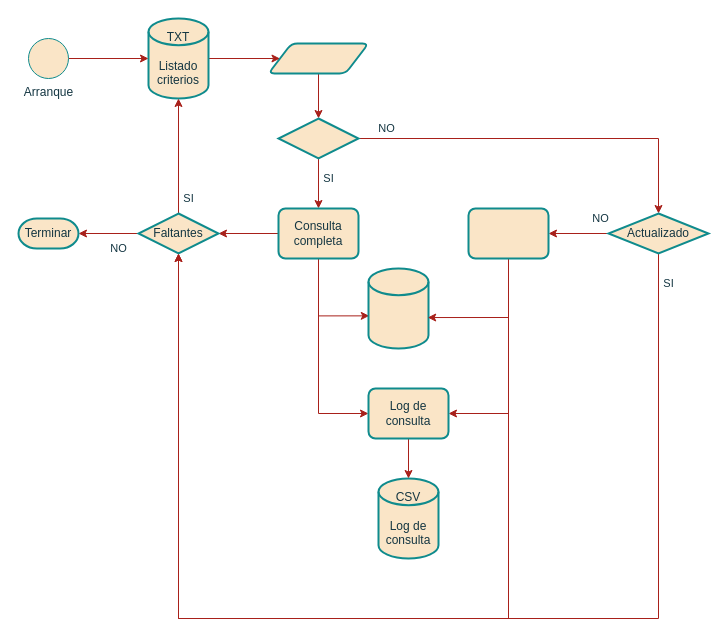
Some shapes in this 726 by 644 pixel diagram are drawn without their labels. Here are the shapes that lost their labels. From the top down, the centre of each, then its label:
the point at 318,58: Criterio de búsqueda
the point at 318,138: Nuevo
the point at 508,233: Consulta parcial
the point at 398,308: JSON Corpus de consulta
